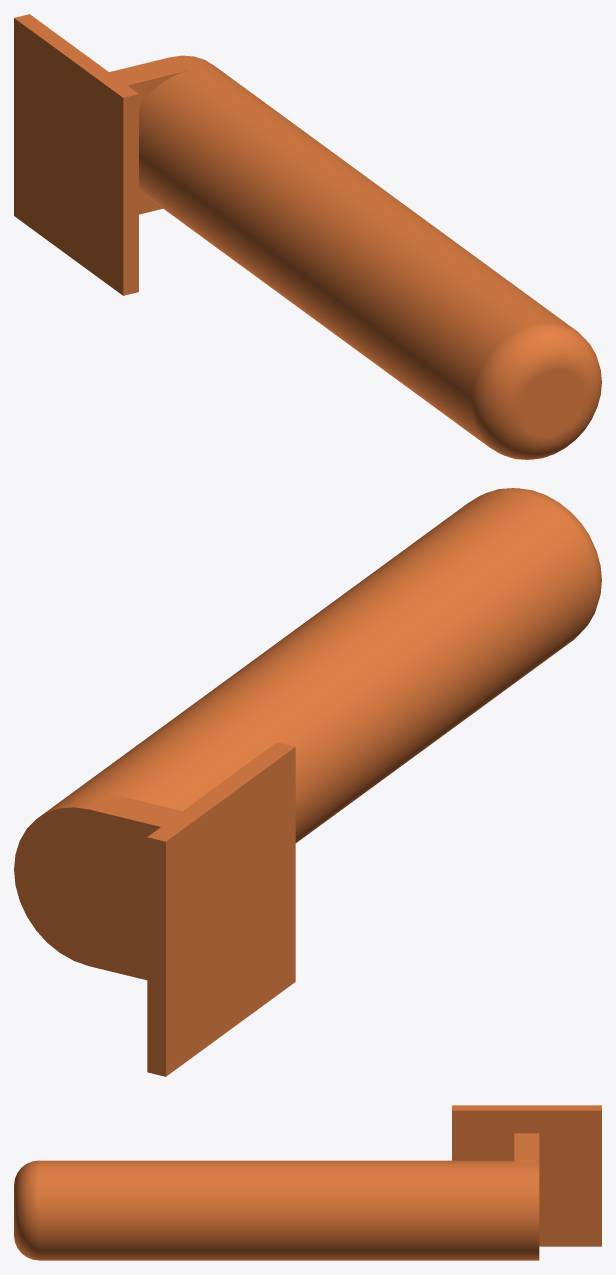
File: HookBase.glb
3 views of the same model, one above another, from view 1: azimuth 30°, elevation 25°; view 2: azimuth 150°, elevation 25°; view 3: azimuth 270°, elevation 25° (orthographic). The views are drawn at different scales.
Visible parts, largest first — view 1: HookBase; view 2: HookBase; view 3: HookBase.
Part boxes in pixels (box(x1,y1,x2,y2)): HookBase: box(14, 14, 601, 459); HookBase: box(14, 488, 601, 1076); HookBase: box(14, 1105, 601, 1260).
Size of the model in its own units: 2.75 by 3 by 11.75.
